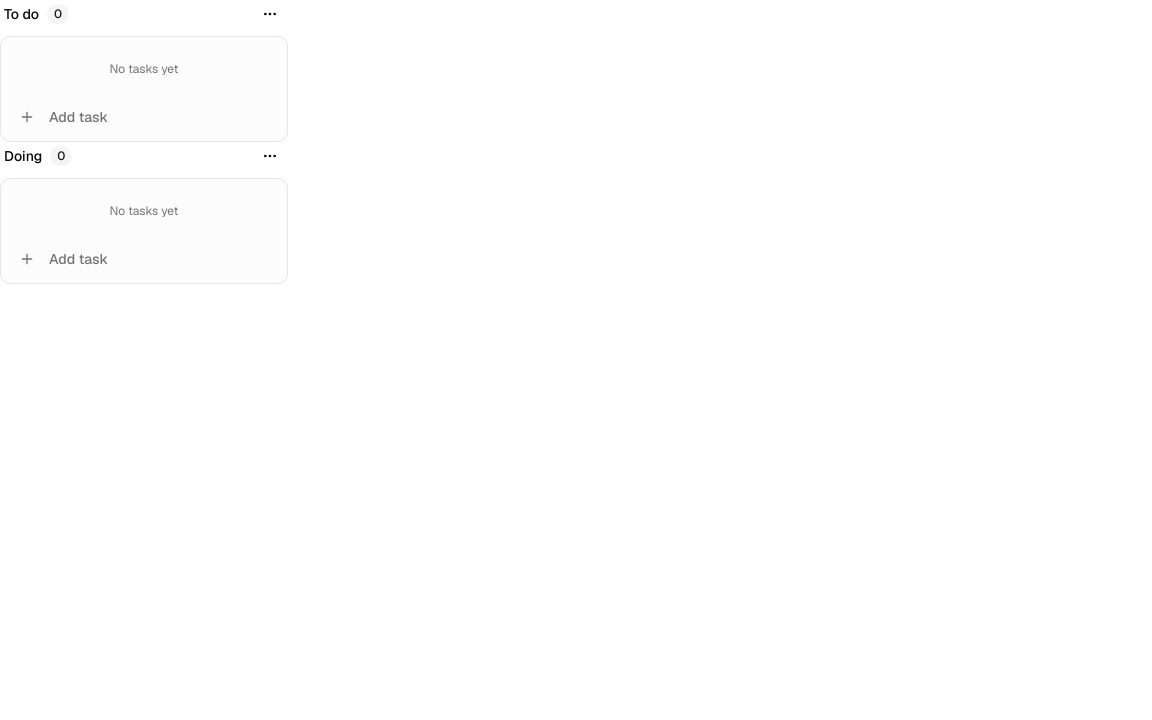
Test: Column delete confirm returns focus › goes back to the column's menu button when the confirm is dismissed with Escape
Click the button named "To do column actions" at (270,14), box left=256, top=0, right=284, bottom=28
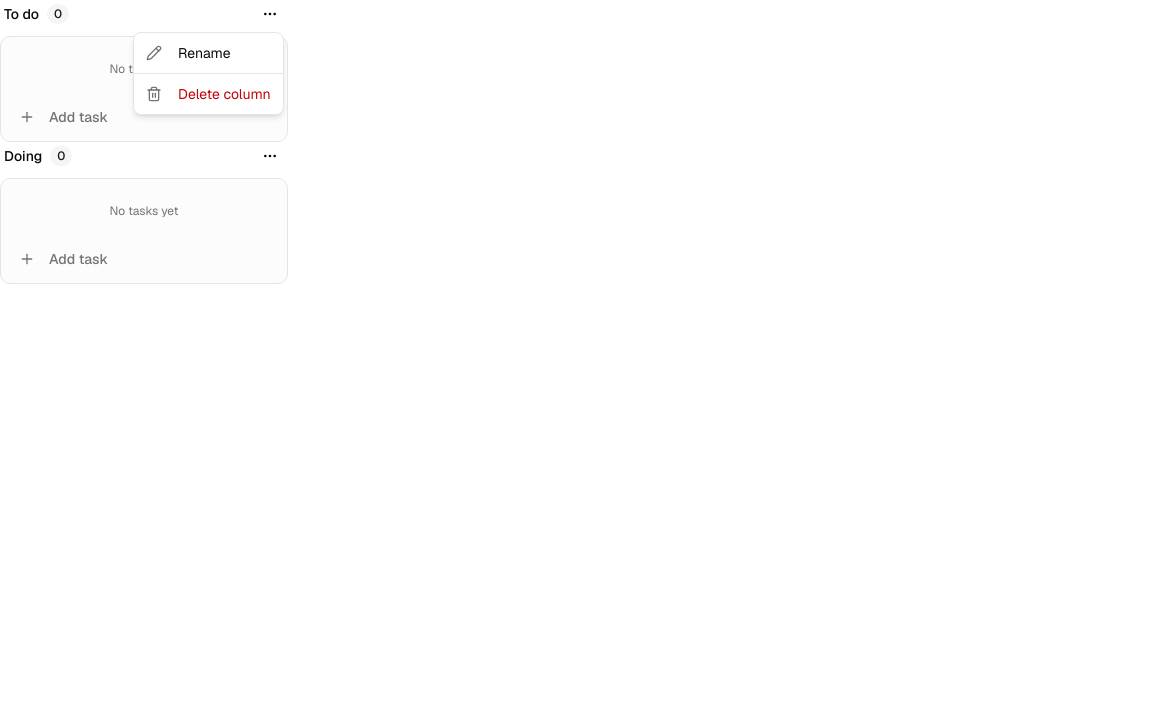
Click the menu item "Delete column" at (208,94), box left=146, top=85, right=271, bottom=103
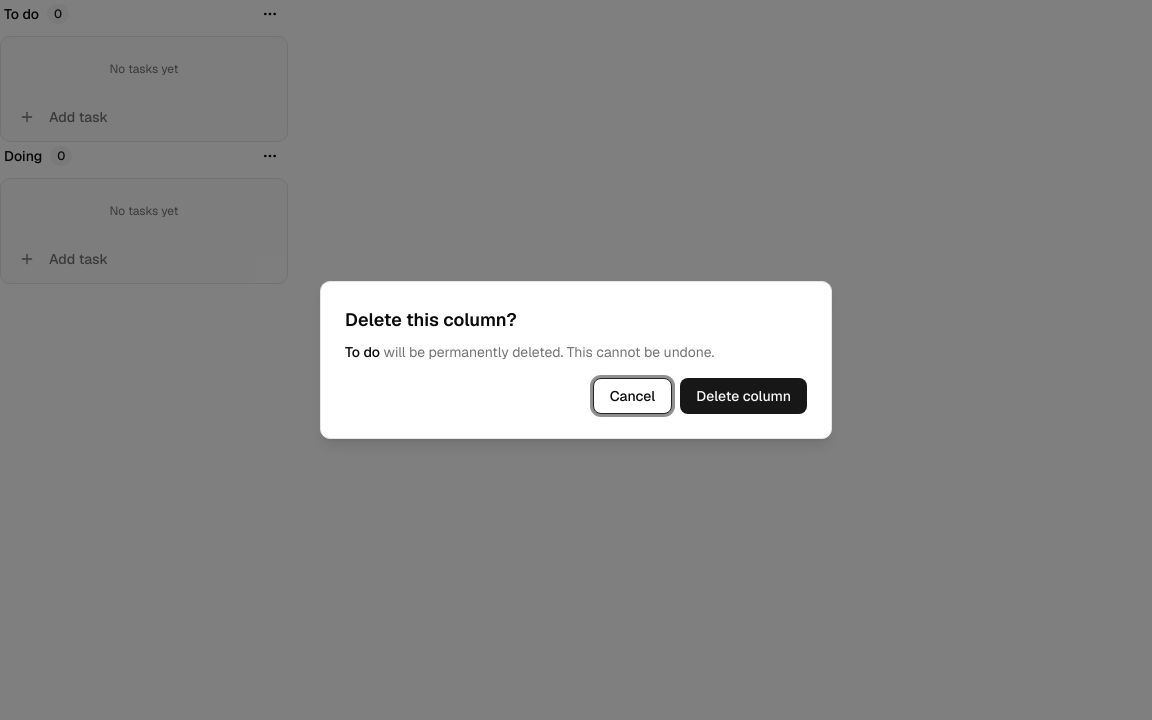
Press Escape
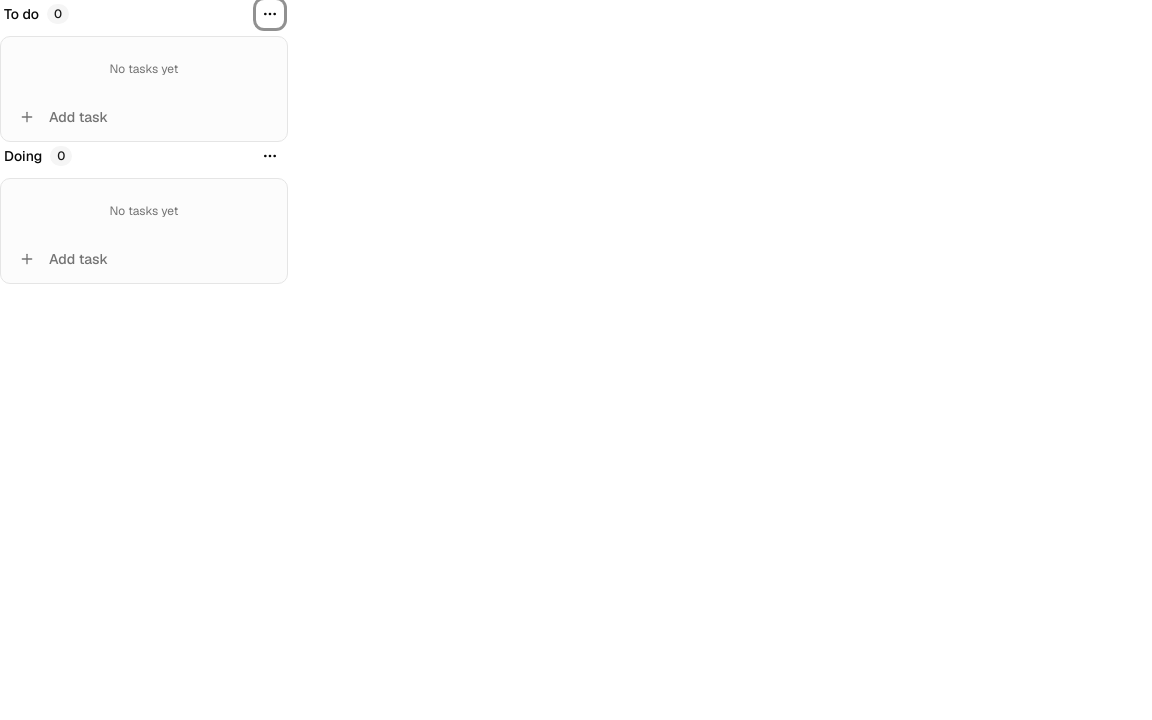
Now the dialog is gone
